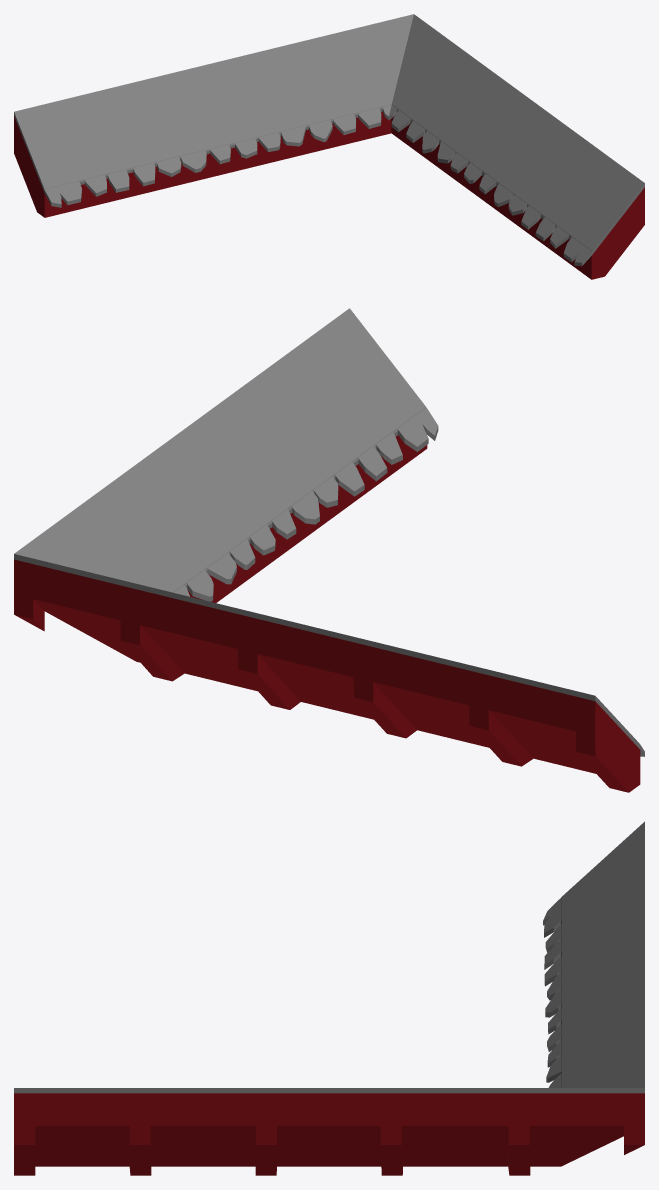
The model's file is SM_MH_01_Slate_Roof_End_Intersection_01.fbx.
The picture shows the model from 3 angles, top to bottom: view 1: azimuth 30°, elevation 25°; view 2: azimuth 150°, elevation 25°; view 3: azimuth 270°, elevation 25°; orthographic projection. The views are drawn at different scales.
Parts seen in each view (by area): view 1: SM_MH_01_Slate_Roof_End_Intersection_01_LOD0; view 2: SM_MH_01_Slate_Roof_End_Intersection_01_LOD0; view 3: SM_MH_01_Slate_Roof_End_Intersection_01_LOD0.
Boxes of the visible parts, box(x1,y1,x2,y2) form: SM_MH_01_Slate_Roof_End_Intersection_01_LOD0: box(14, 14, 644, 279); SM_MH_01_Slate_Roof_End_Intersection_01_LOD0: box(14, 308, 644, 792); SM_MH_01_Slate_Roof_End_Intersection_01_LOD0: box(14, 821, 644, 1175).
Size of what is drawn, in the model's own units: 300 by 60 by 300.
